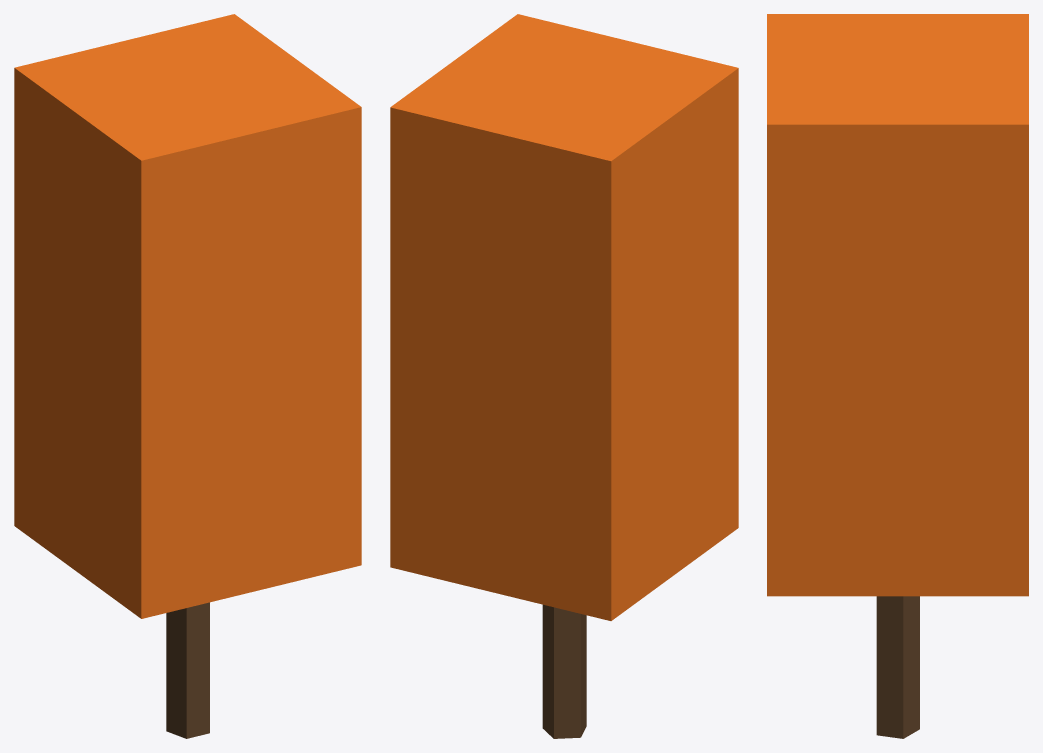
Rendered from tree-square_orange.glb.
3 views of the same model, side by side, from view 1: azimuth 30°, elevation 25°; view 2: azimuth 150°, elevation 25°; view 3: azimuth 270°, elevation 25° (orthographic). The views are drawn at different scales.
Parts seen in each view (by area): view 1: tree-square_orange; view 2: tree-square_orange; view 3: tree-square_orange.
Part boxes in pixels (<box>): tree-square_orange: <box>14,14,361,738</box>; tree-square_orange: <box>390,14,738,738</box>; tree-square_orange: <box>767,14,1028,738</box>.
Bounding box in the file's own units: 1.68 × 4.68 × 1.68.
1 material, 1 textured.
